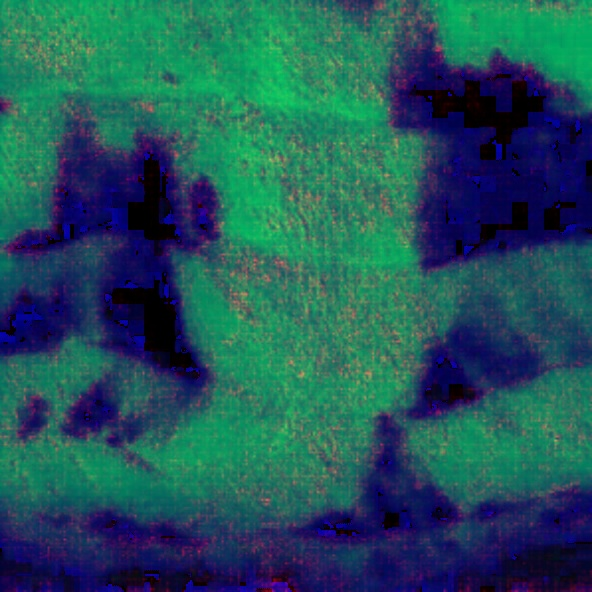rip_current: (124, 76, 439, 508)
